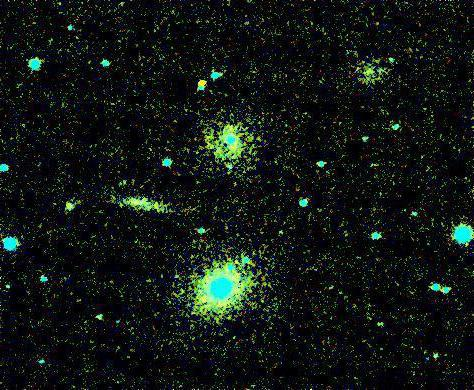star: (189, 66, 219, 96)
